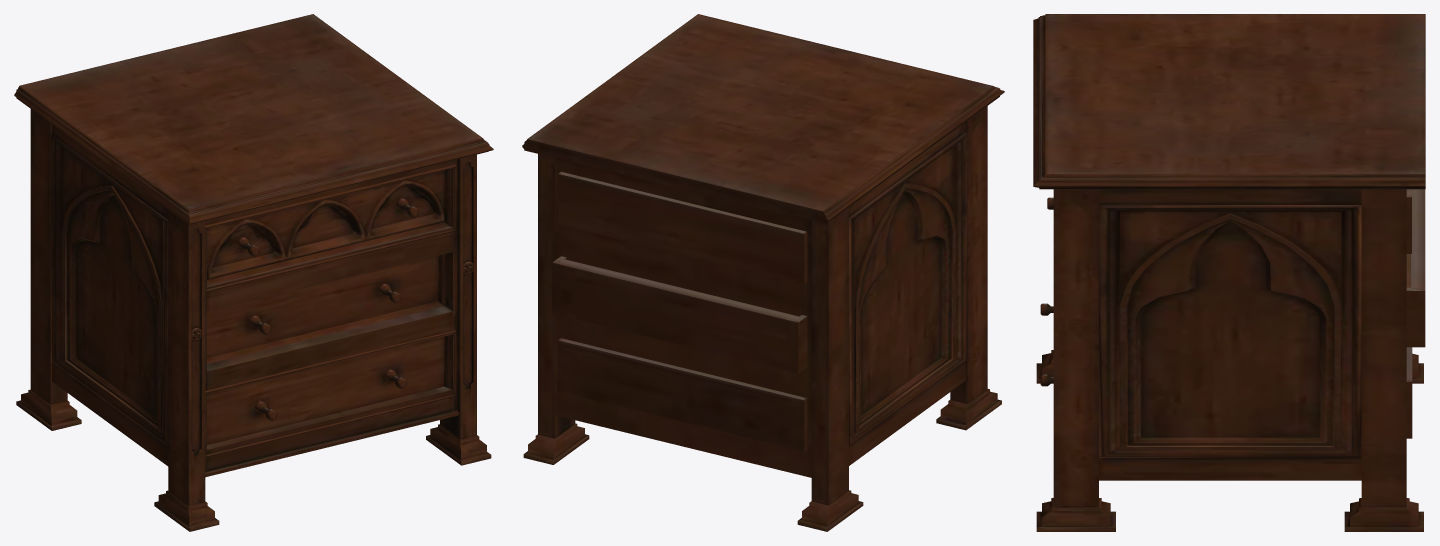
The model's file is ph-gothiccommode-01.glb.
3 renders of one model, left to right at view 1: azimuth 30°, elevation 25°; view 2: azimuth 150°, elevation 25°; view 3: azimuth 270°, elevation 25°, orthographic. The views are drawn at different scales.
Parts seen in each view (by area): view 1: GothicCommode_01; view 2: GothicCommode_01; view 3: GothicCommode_01.
Boxes of the visible parts, x1=… form: GothicCommode_01: x1=14, y1=14, x2=493, y2=531; GothicCommode_01: x1=522, y1=14, x2=1004, y2=531; GothicCommode_01: x1=1033, y1=14, x2=1425, y2=531.
Size of the model in its own units: 1 by 1 by 1.
1 material, 1 textured.
